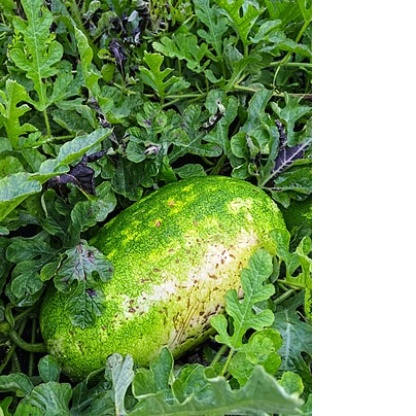duahau: (35, 163, 291, 385)
